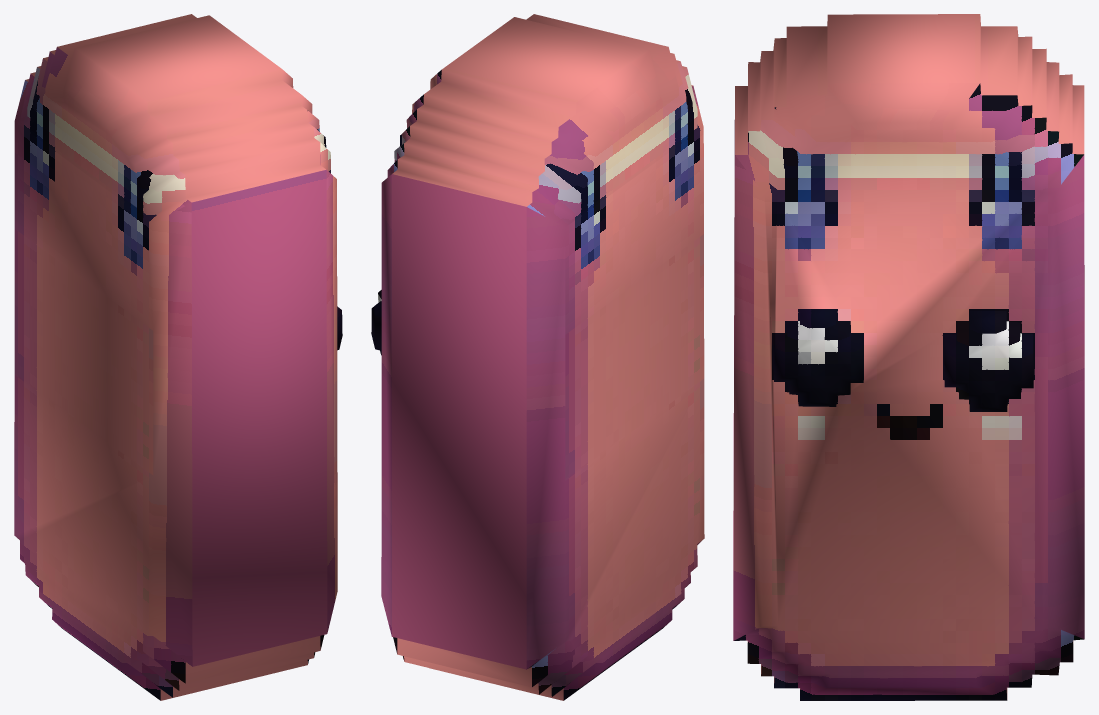
The model's file is Baggy.glb.
The picture shows the model from 3 angles, left to right: view 1: azimuth 30°, elevation 25°; view 2: azimuth 150°, elevation 25°; view 3: azimuth 270°, elevation 25°; orthographic projection. The views are drawn at different scales.
Visible parts, largest first — view 1: baggy; view 2: baggy; view 3: baggy.
Boxes of the visible parts, bbox=[...] form: baggy: bbox=[14, 14, 342, 700]; baggy: bbox=[371, 14, 704, 700]; baggy: bbox=[733, 14, 1084, 700].
Bounding box in the file's own units: 0.2713 × 0.7309 × 0.3766.
Materials: 1 (1 with a texture image).
